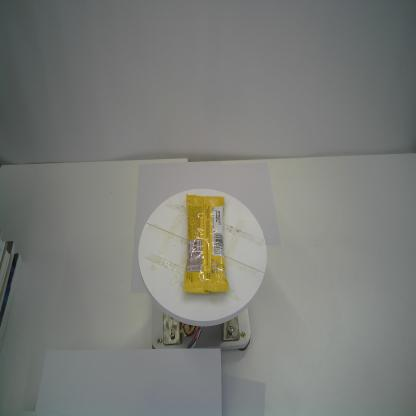Chocolate: (183, 194, 229, 294)
